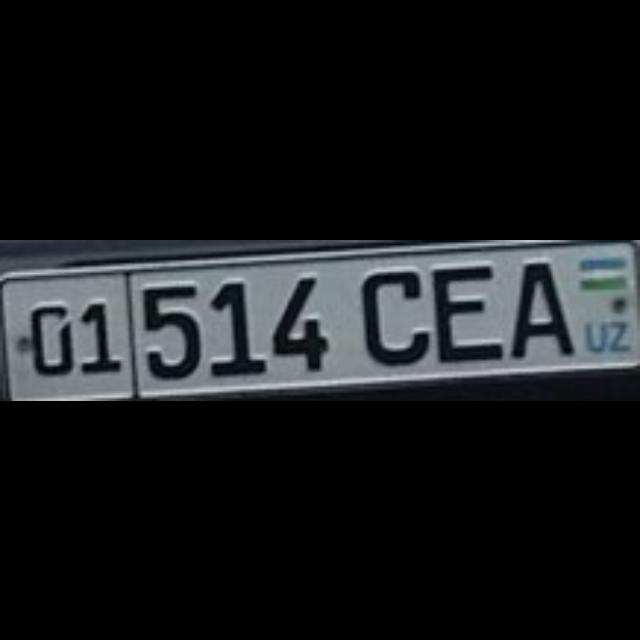0: (27, 298, 68, 370)
1: (205, 277, 261, 371), (76, 298, 118, 370)
4: (267, 271, 323, 365)
5: (138, 280, 196, 378)
A: (508, 256, 572, 354)
C: (355, 265, 425, 359)
E: (428, 260, 496, 356)
